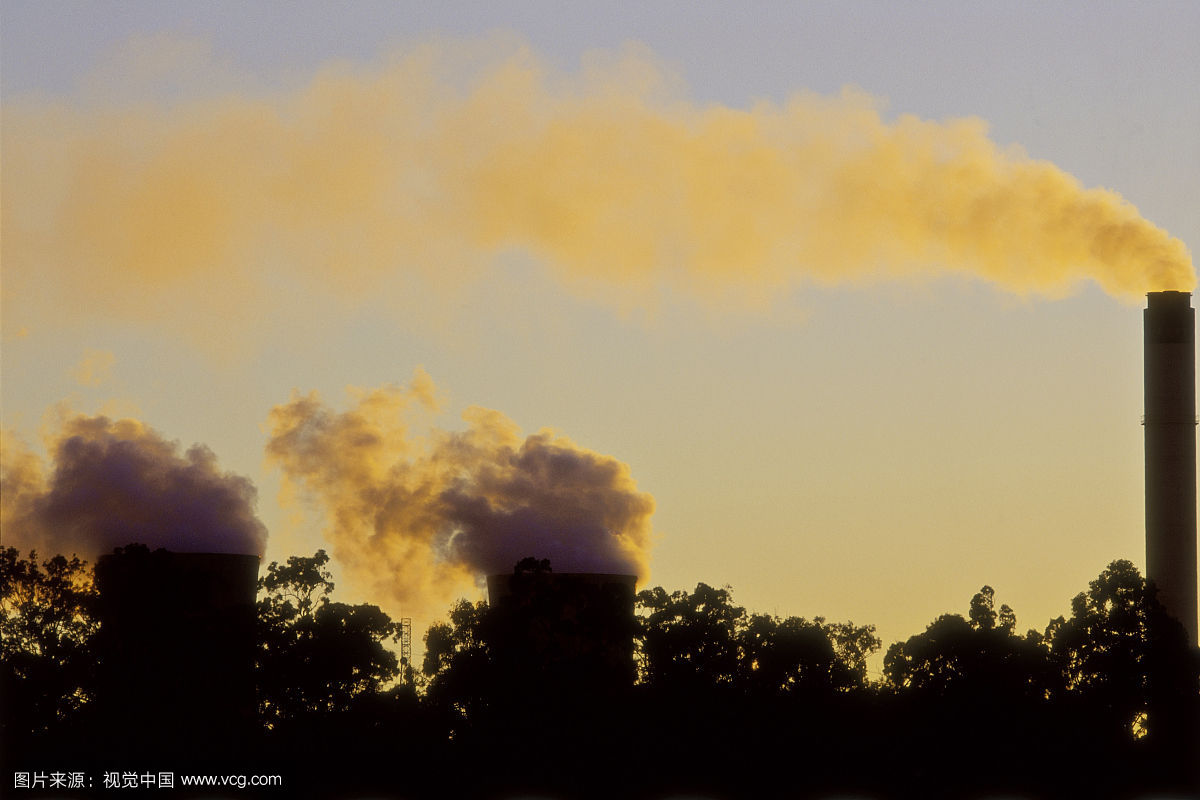dust: (877, 131, 1200, 321), (342, 409, 664, 597), (40, 417, 292, 574)
